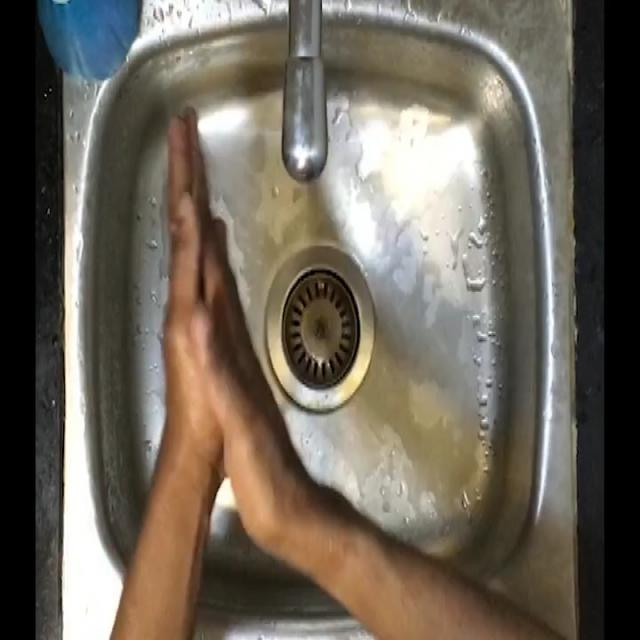step_1: (132, 79, 284, 464)
